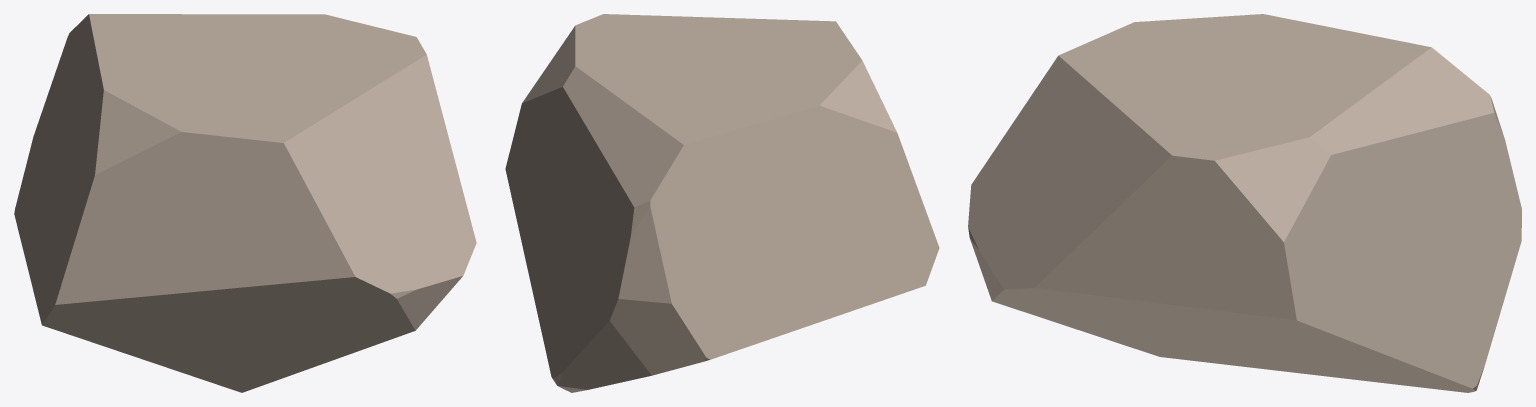
File: ForestRock3.glb
The picture shows the model from 3 angles, left to right: view 1: azimuth 30°, elevation 25°; view 2: azimuth 150°, elevation 25°; view 3: azimuth 270°, elevation 25°; orthographic projection. The views are drawn at different scales.
Visible parts, largest first — view 1: ForestRock3; view 2: ForestRock3; view 3: ForestRock3.
Boxes of the visible parts, <box> form: ForestRock3: <box>14,14,476,392</box>; ForestRock3: <box>505,14,939,392</box>; ForestRock3: <box>968,14,1521,392</box>.
Size of the model in its own units: 2.49 by 1.65 by 2.77.
